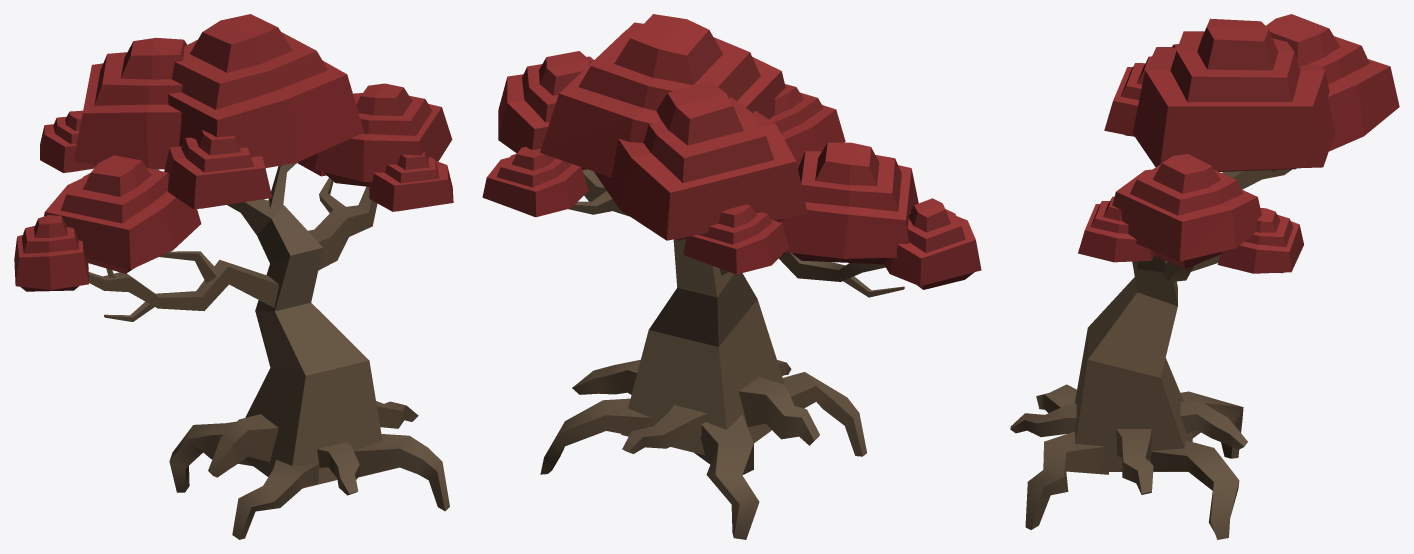
Rendered from SF_Env_Tree_Large_02.fbx.
3 renders of one model, left to right at view 1: azimuth 30°, elevation 25°; view 2: azimuth 150°, elevation 25°; view 3: azimuth 270°, elevation 25°, orthographic. The views are drawn at different scales.
Visible parts, largest first — view 1: SF_Env_Tree_Large_02; view 2: SF_Env_Tree_Large_02; view 3: SF_Env_Tree_Large_02.
Part boxes in pixels (x1=…): SF_Env_Tree_Large_02: x1=14, y1=14, x2=453, y2=539; SF_Env_Tree_Large_02: x1=482, y1=14, x2=981, y2=539; SF_Env_Tree_Large_02: x1=1010, y1=14, x2=1399, y2=539.
Size of the model in its own units: 16.54 by 16.2 by 12.34.
